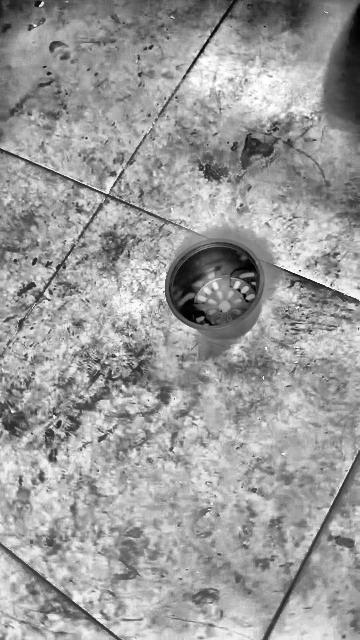pot: (165, 238, 265, 338)
